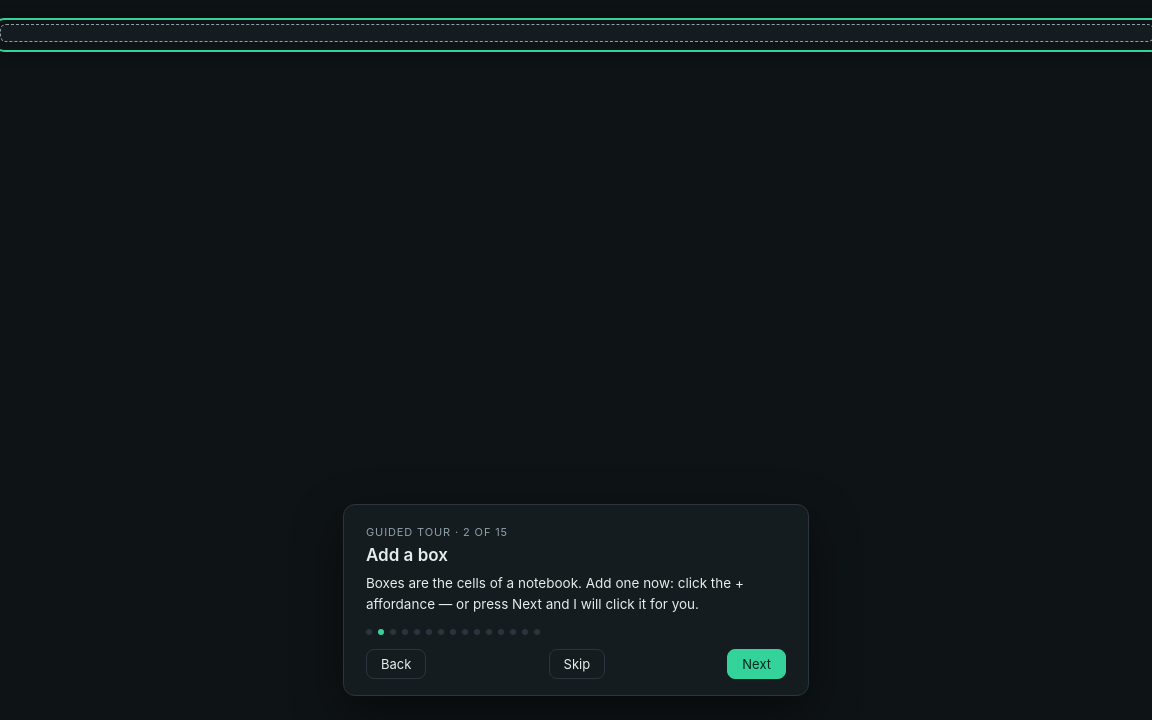
operating the + control advances just like next
Press the mouse on the element with class "add_box_after" at point(576, 33), box [0,24,1151,42]
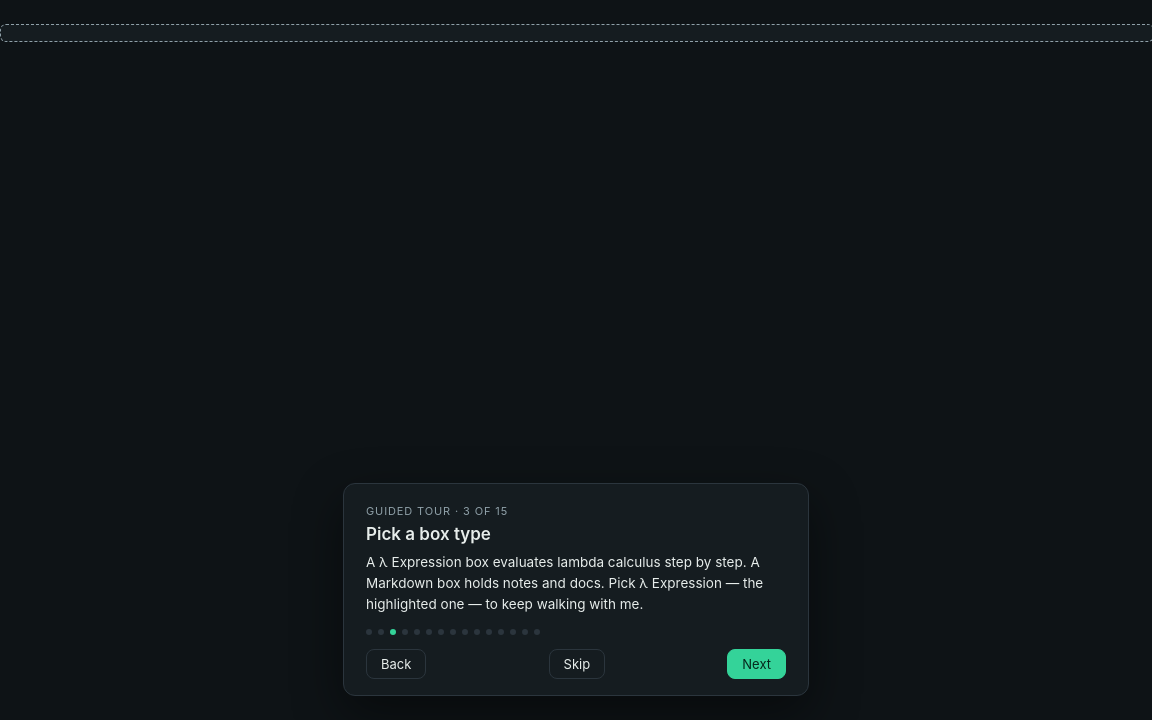
Check: the text with class "tour--title" reads "Pick a box type", box [366,524,491,544]
